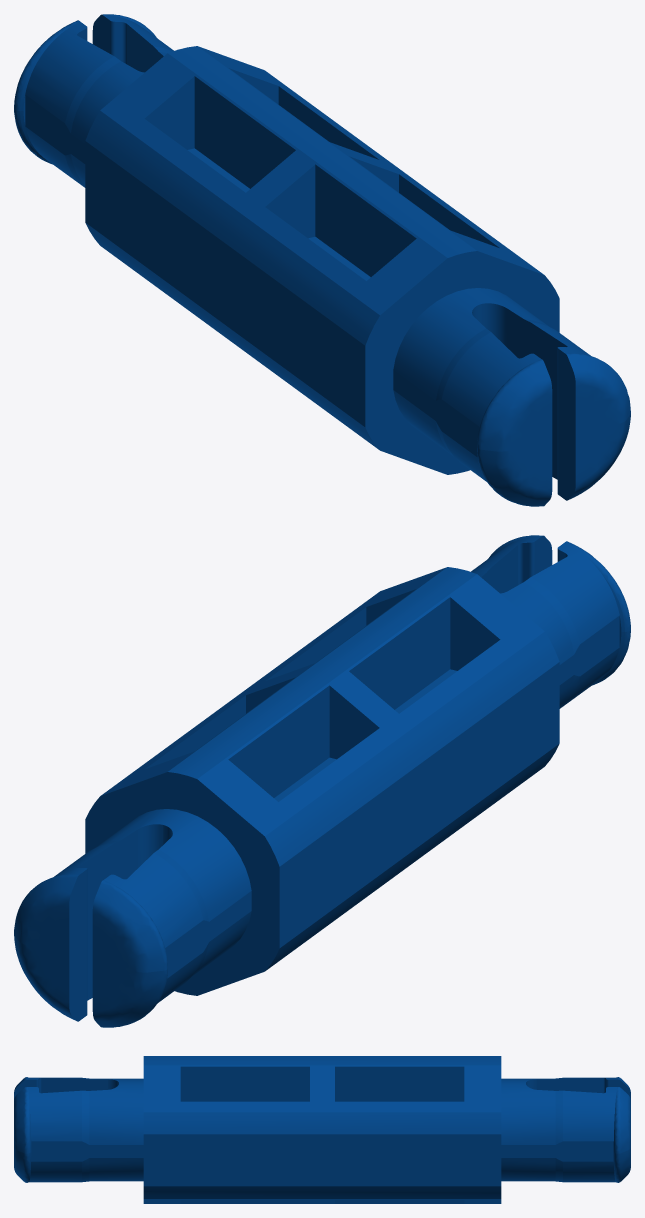
The model's file is 1x Pitch Standoff (Weak) (228-2500-2269).glb.
3 renders of one model, top to bottom at view 1: azimuth 30°, elevation 25°; view 2: azimuth 150°, elevation 25°; view 3: azimuth 270°, elevation 25°, orthographic. The views are drawn at different scales.
Parts seen in each view (by area): view 1: 1x Pitch Standoff (Weak) (228-2500-2269); view 2: 1x Pitch Standoff (Weak) (228-2500-2269); view 3: 1x Pitch Standoff (Weak) (228-2500-2269).
Part boxes in pixels (x1,y1,x2,y2): 1x Pitch Standoff (Weak) (228-2500-2269): (14, 14, 630, 506); 1x Pitch Standoff (Weak) (228-2500-2269): (14, 535, 630, 1027); 1x Pitch Standoff (Weak) (228-2500-2269): (14, 1056, 630, 1203).
Bounding box in the file's own units: 0.2283 × 0.2458 × 0.9834.
